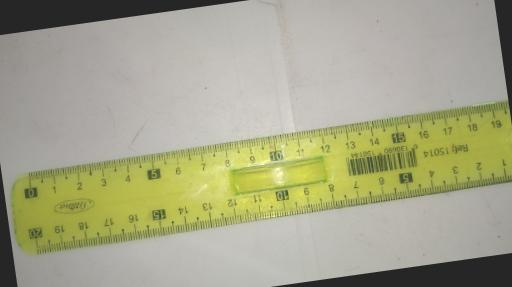Ruler: (4, 98, 512, 256)
